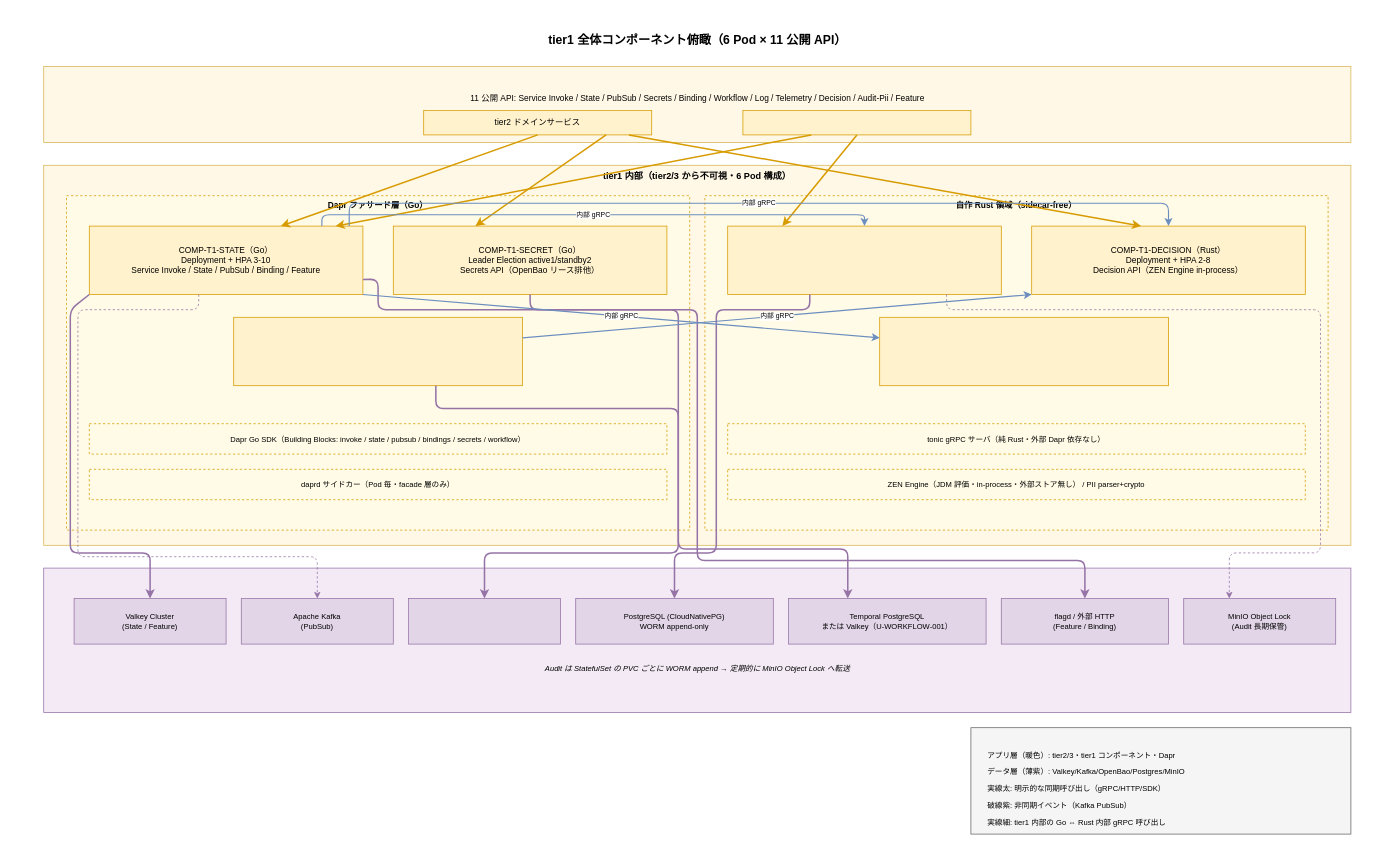
Image size: 1394x862. Some labels were removed from this diagram. Each missing label, with the box of its shape:
COMP-T1-AUDIT（Rust） StatefulSet + PVC per replica Audit-Pii API（ハッシュチェーン）: (727, 225, 1001, 294)
COMP-T1-PII（Rust） Deployment + HPA 2-6（Dapr sidecar なし） PII マスキング（純関数）: (879, 317, 1168, 386)
COMP-T1-WORKFLOW（Go） Deployment 固定 3 replica（sticky） Workflow API / Saga: (233, 317, 522, 386)
OpenBao (Secrets): (408, 598, 560, 644)
tier2 / tier3（公開 API のみ可視）: (43, 66, 1351, 142)
tier3 業務アプリ: (742, 110, 971, 135)
データ層（Stateful バックエンド）: (43, 567, 1351, 712)
凡例: (970, 727, 1351, 834)
